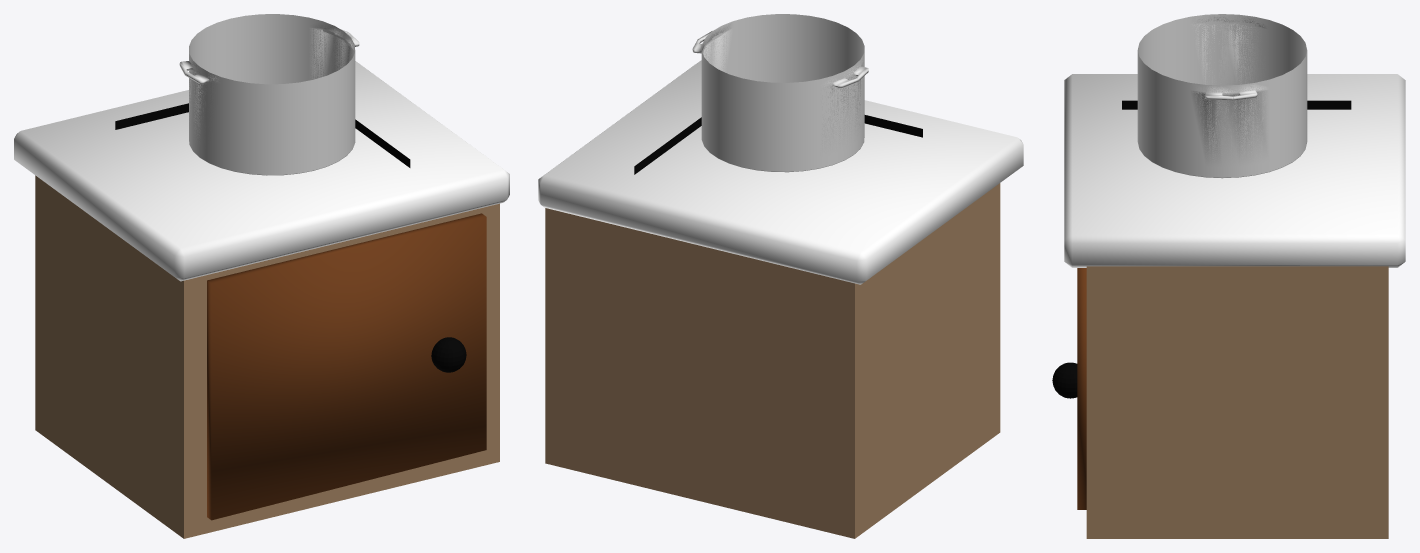
File: cube_left_pot.glb
3 views of the same model, side by side, from view 1: azimuth 30°, elevation 25°; view 2: azimuth 150°, elevation 25°; view 3: azimuth 270°, elevation 25° (orthographic). The views are drawn at different scales.
Visible parts, largest first — view 1: Cylinder.015; view 2: Cylinder.015; view 3: Cylinder.015.
Boxes of the visible parts, box(x1,y1,x2,y2) form: Cylinder.015: box(14, 14, 509, 538); Cylinder.015: box(538, 14, 1023, 538); Cylinder.015: box(1052, 14, 1405, 538).
Size of the model in its own units: 2.61 by 2.99 by 2.34.
